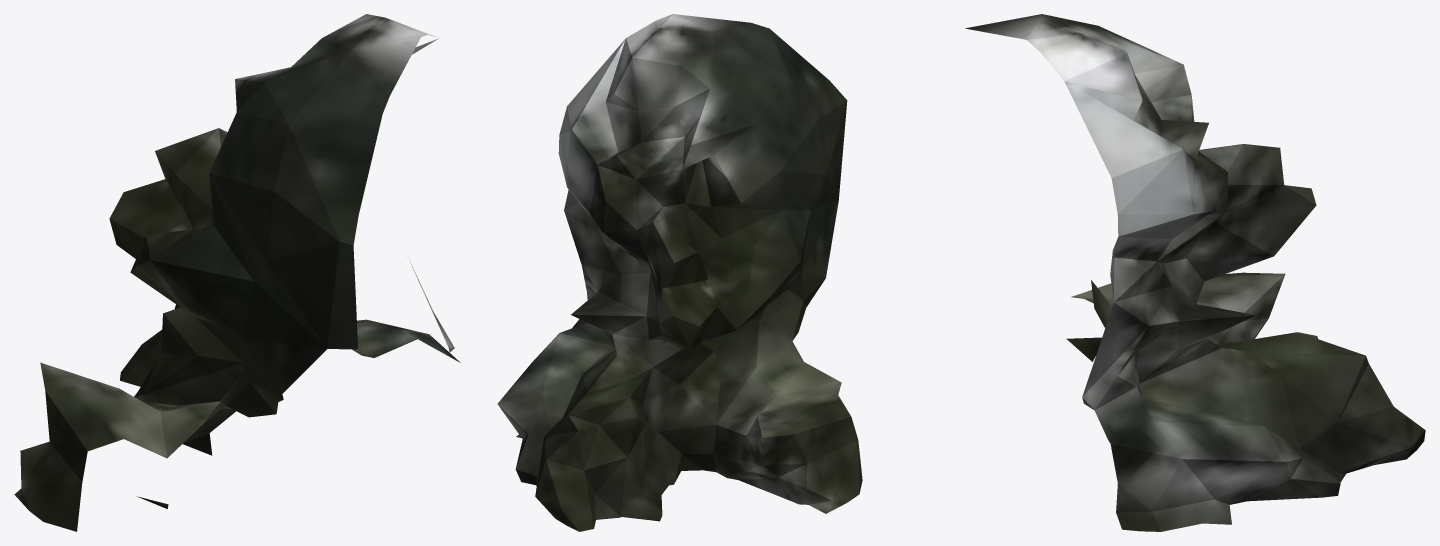
The picture shows the model from 3 angles, left to right: view 1: azimuth 30°, elevation 25°; view 2: azimuth 150°, elevation 25°; view 3: azimuth 270°, elevation 25°; orthographic projection. The views are drawn at different scales.
Bounding box in the file's own units: 5.14 × 5.65 × 6.13.
1 material, 1 textured.
